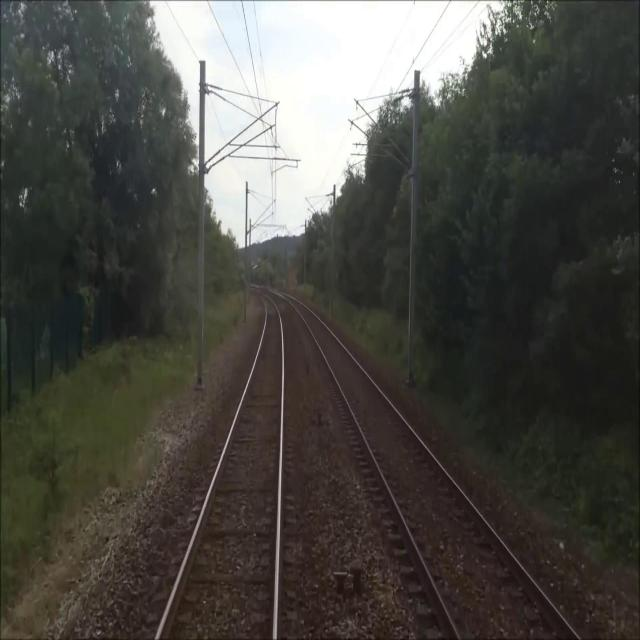rail-track: (286, 297, 576, 639), (159, 294, 281, 639)
